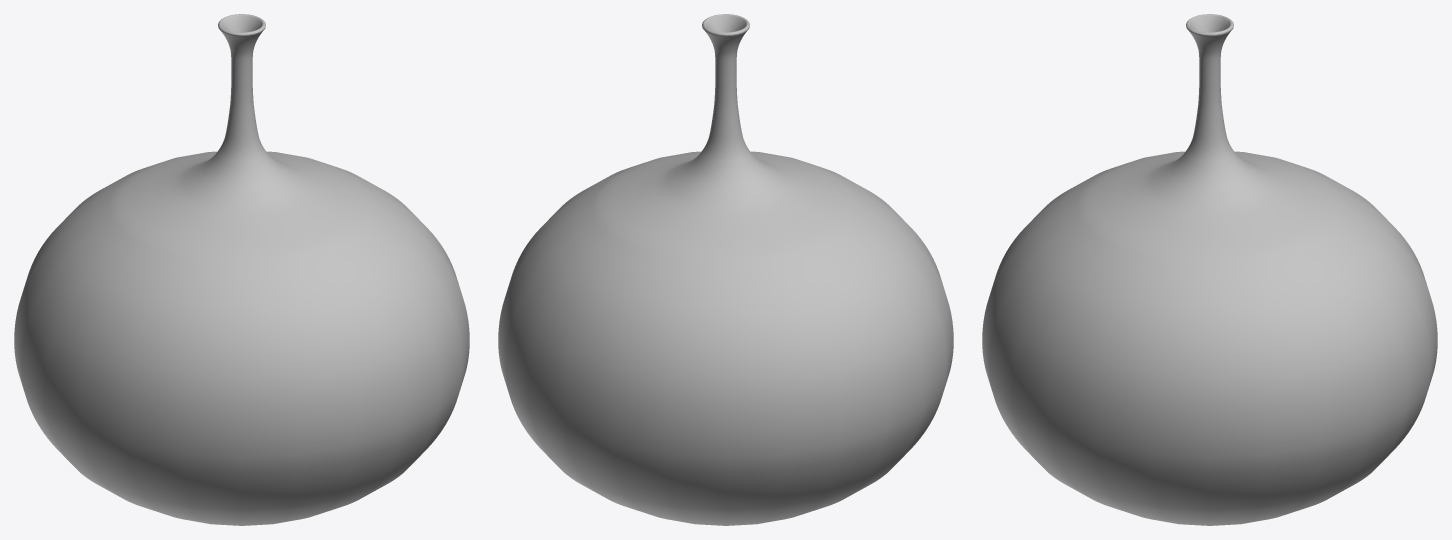
File: Pot1.fbx
The picture shows the model from 3 angles, left to right: view 1: azimuth 30°, elevation 25°; view 2: azimuth 150°, elevation 25°; view 3: azimuth 270°, elevation 25°; orthographic projection.
Parts seen in each view (by area): view 1: Pot1; view 2: Pot1; view 3: Pot1.
Boxes of the visible parts, x1=… form: Pot1: x1=14, y1=14, x2=469, y2=525; Pot1: x1=498, y1=14, x2=953, y2=525; Pot1: x1=982, y1=14, x2=1437, y2=525.
Size of the model in its own units: 0.2157 by 0.2434 by 0.2157.
1 material, 1 textured.
